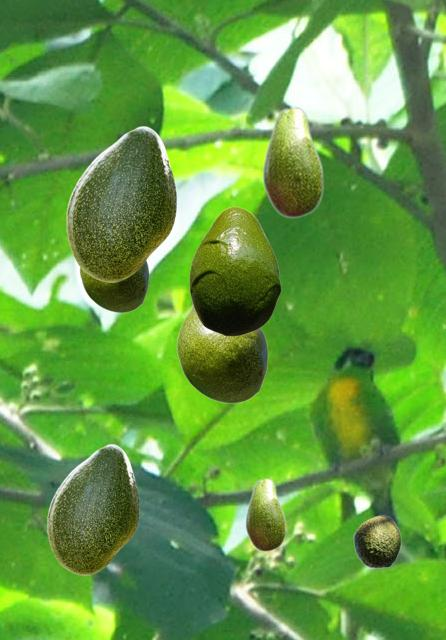avocado: (66, 126, 175, 281), (47, 444, 138, 574), (189, 206, 280, 335), (176, 305, 267, 403), (262, 105, 323, 218), (79, 261, 148, 312), (245, 477, 285, 551), (353, 515, 400, 567)
